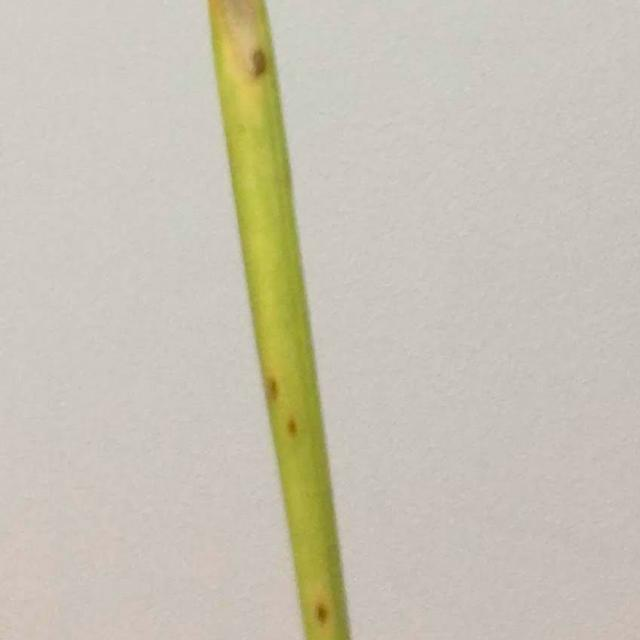brownspots: (240, 44, 276, 84), (276, 408, 310, 448), (310, 594, 336, 630), (262, 372, 286, 406)
